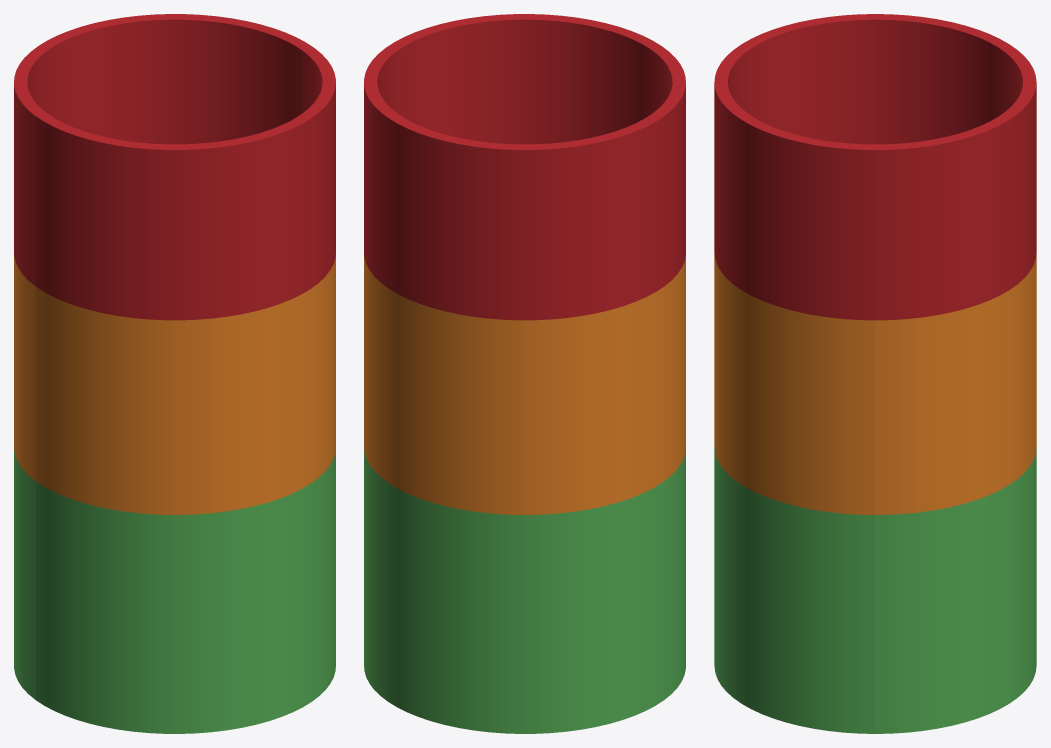
Rendered from instrument_air_dryer_temperature.glb.
3 renders of one model, left to right at view 1: azimuth 30°, elevation 25°; view 2: azimuth 150°, elevation 25°; view 3: azimuth 270°, elevation 25°, orthographic.
Parts seen in each view (by area): view 1: temperature__front, temperature__back; view 2: temperature__back, temperature__front; view 3: temperature__back, temperature__front.
Part boxes in pixels (x1,y1,x2,y2): temperature__front: (35, 48, 335, 733); temperature__back: (14, 14, 313, 699); temperature__back: (364, 48, 664, 733); temperature__front: (386, 14, 685, 699); temperature__back: (875, 14, 1036, 733); temperature__front: (714, 14, 875, 733).
Bounding box in the file's own units: 0.6 × 1.2 × 0.6.
